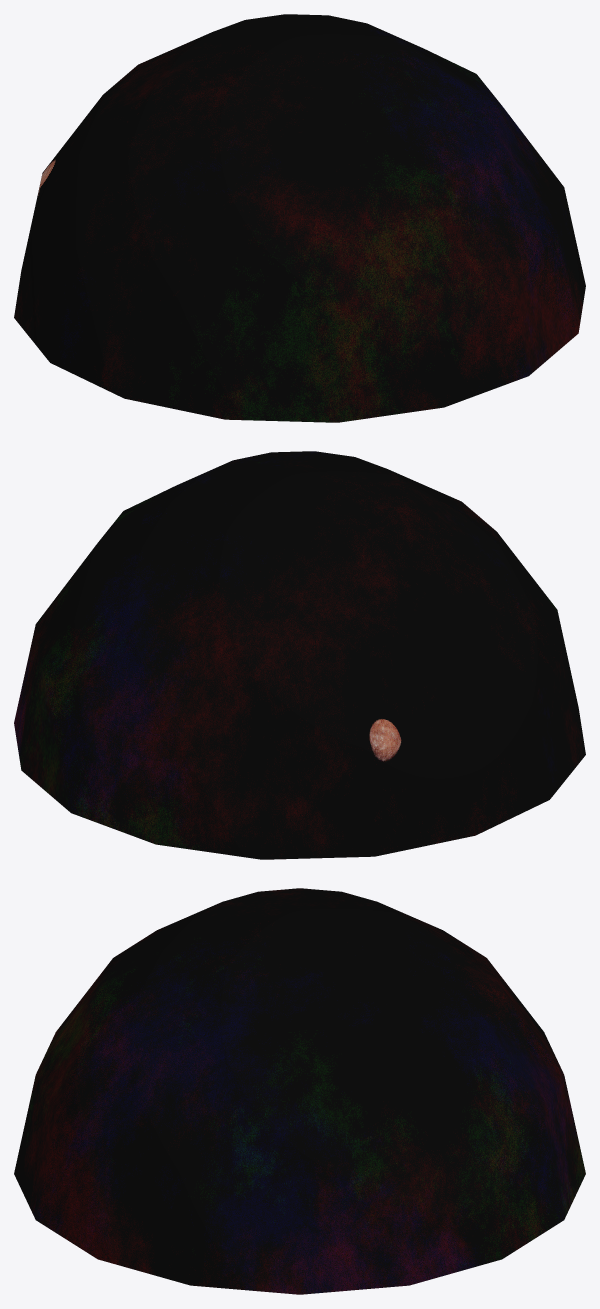
The model's file is Building12.gltf.
3 renders of one model, top to bottom at view 1: azimuth 30°, elevation 25°; view 2: azimuth 150°, elevation 25°; view 3: azimuth 270°, elevation 25°, orthographic.
Visible parts, largest first — view 1: Skyscape; view 2: Skyscape; view 3: Skyscape.
Boxes of the visible parts, x1,y1,x2,y2 form: Skyscape: (14,14,585,422); Skyscape: (14,451,585,859); Skyscape: (14,888,585,1294).
Bounding box in the file's own units: 400 × 200 × 400.
Materials: 16 (3 with a texture image).
